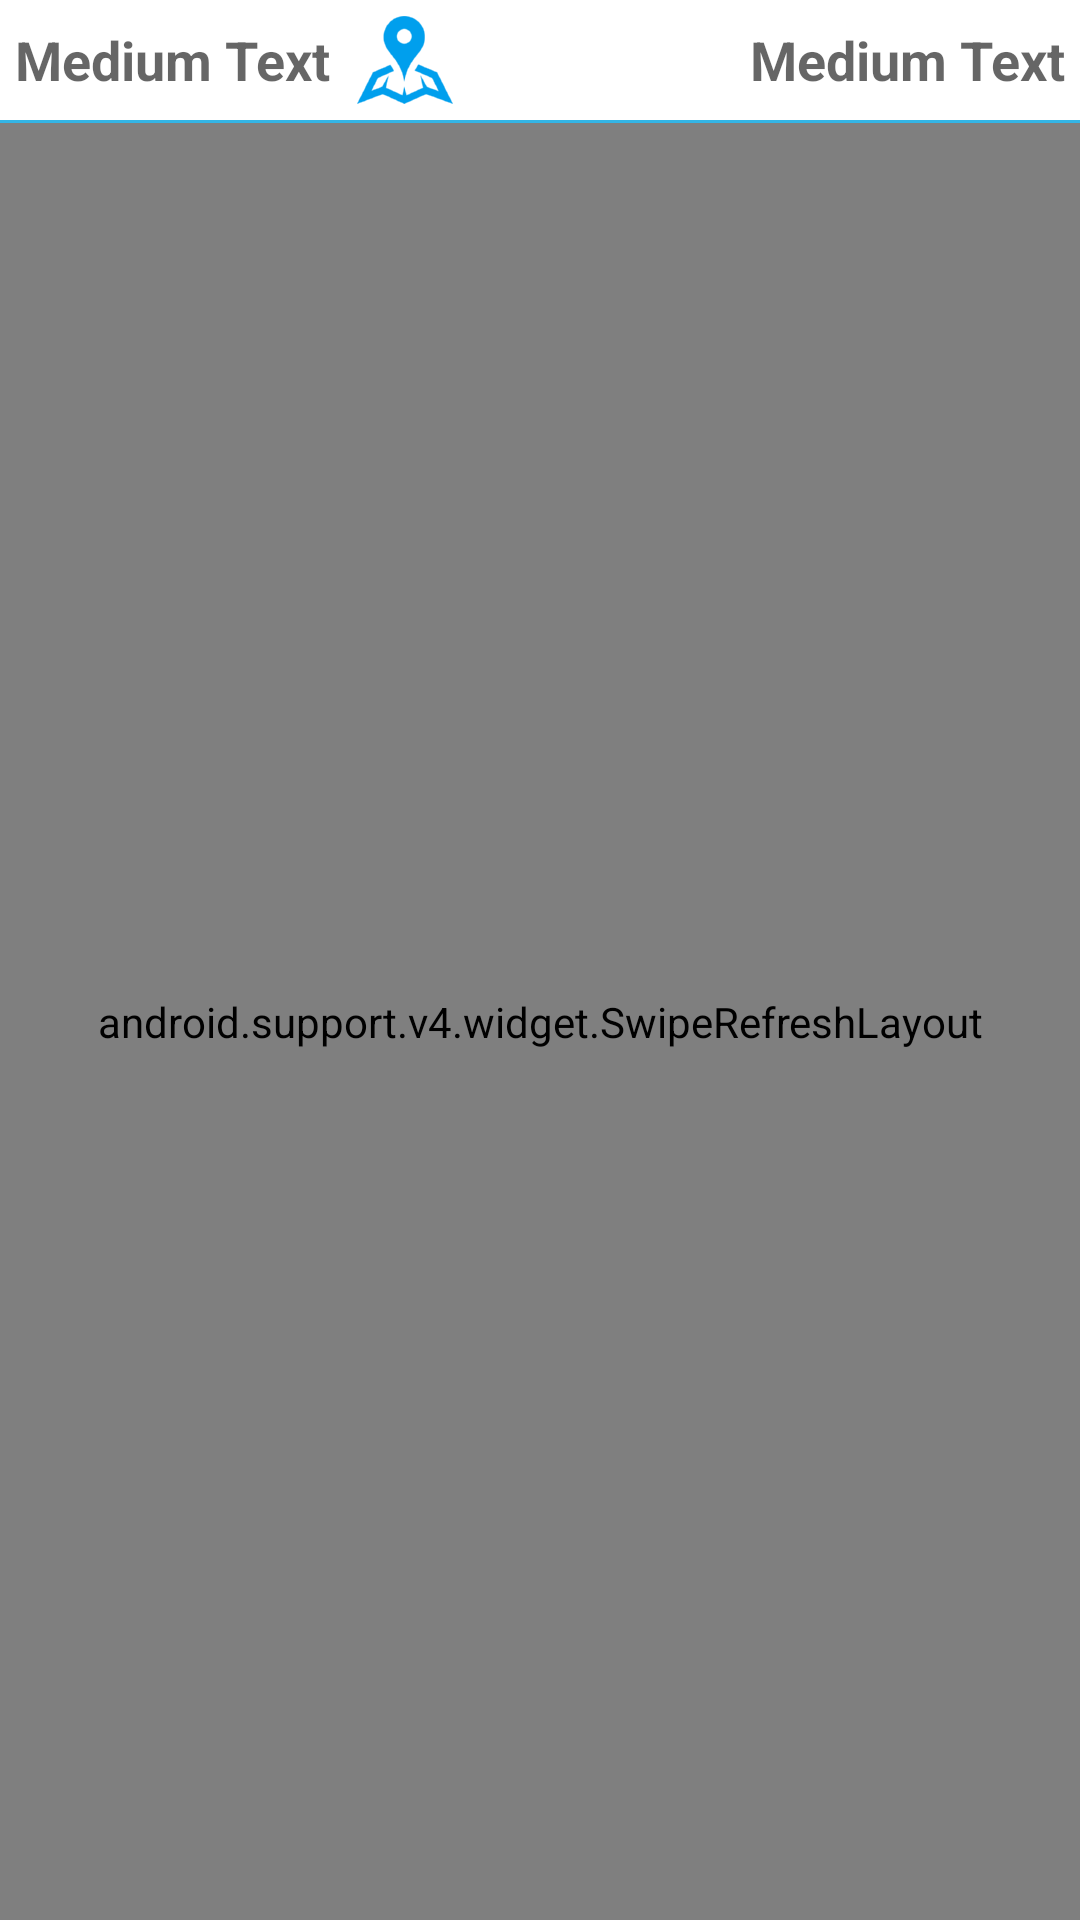

Icons on this 1080px x 1920px Android screen, each with the point to tap as [x,y]:
location: [405,60]
